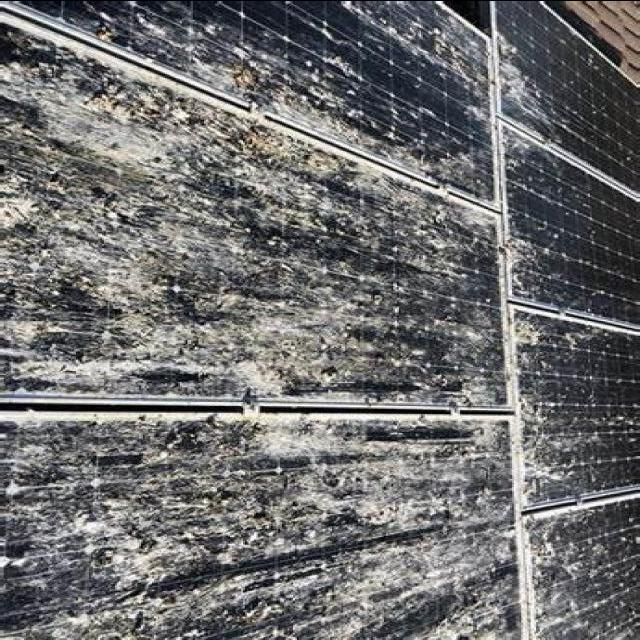soiled: (0, 12, 512, 408), (0, 412, 522, 639), (35, 0, 490, 200), (494, 117, 638, 331), (489, 0, 638, 188), (516, 304, 638, 502), (523, 506, 638, 639)
